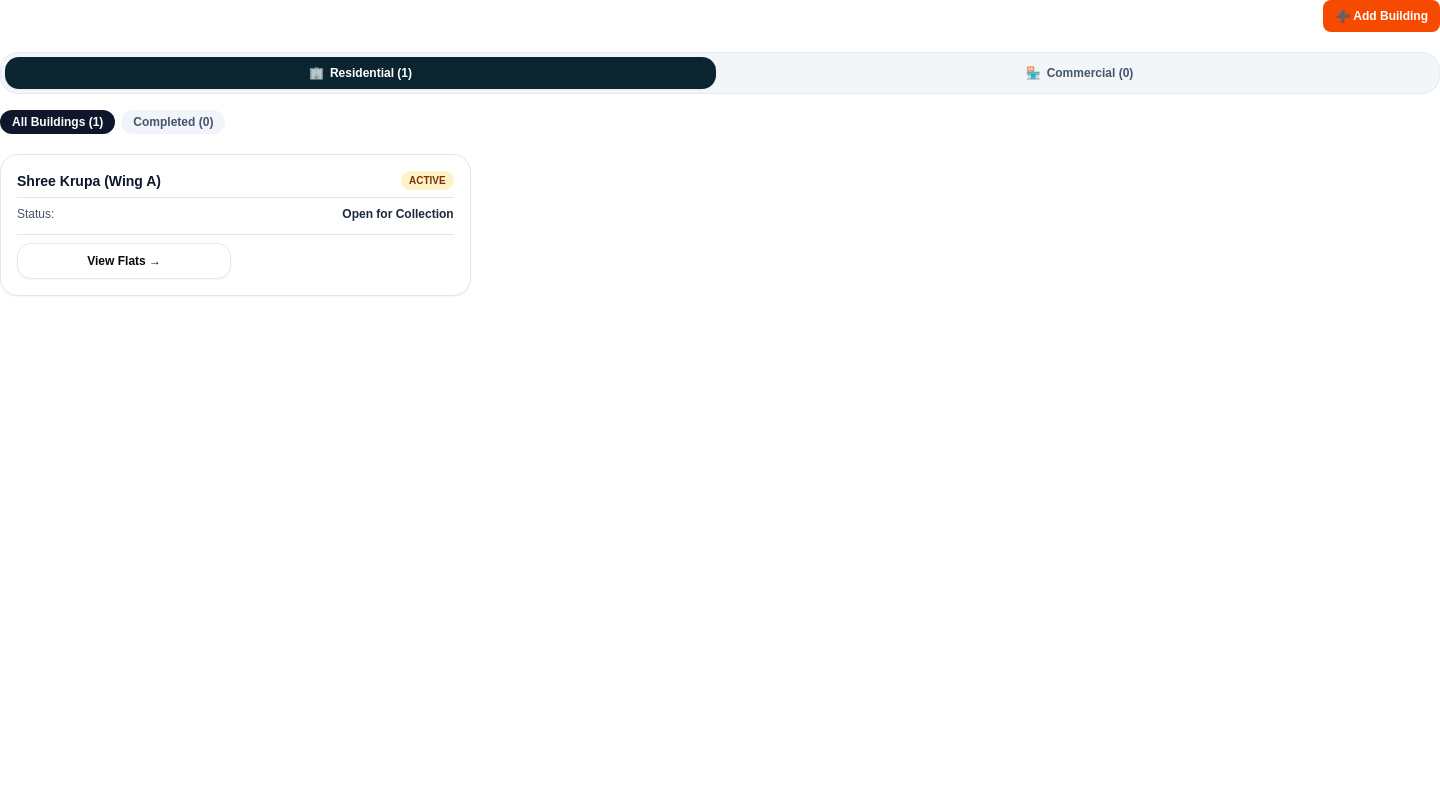
Production Field P0 Fixes: Regression Suite › P0-2: Admin Receipt Void Normalizer & Property Editing › renders Edit Flat button and opens Edit Property modal in BuildingsManagementPanel
This screenshot has width=1440, height=810.
Expected: the heading "Shree Krupa (Wing A)" is shown, x1=17 y1=171 x2=161 y2=191
Click the button "View Flats →": (124,261) x1=17 y1=243 x2=231 y2=279
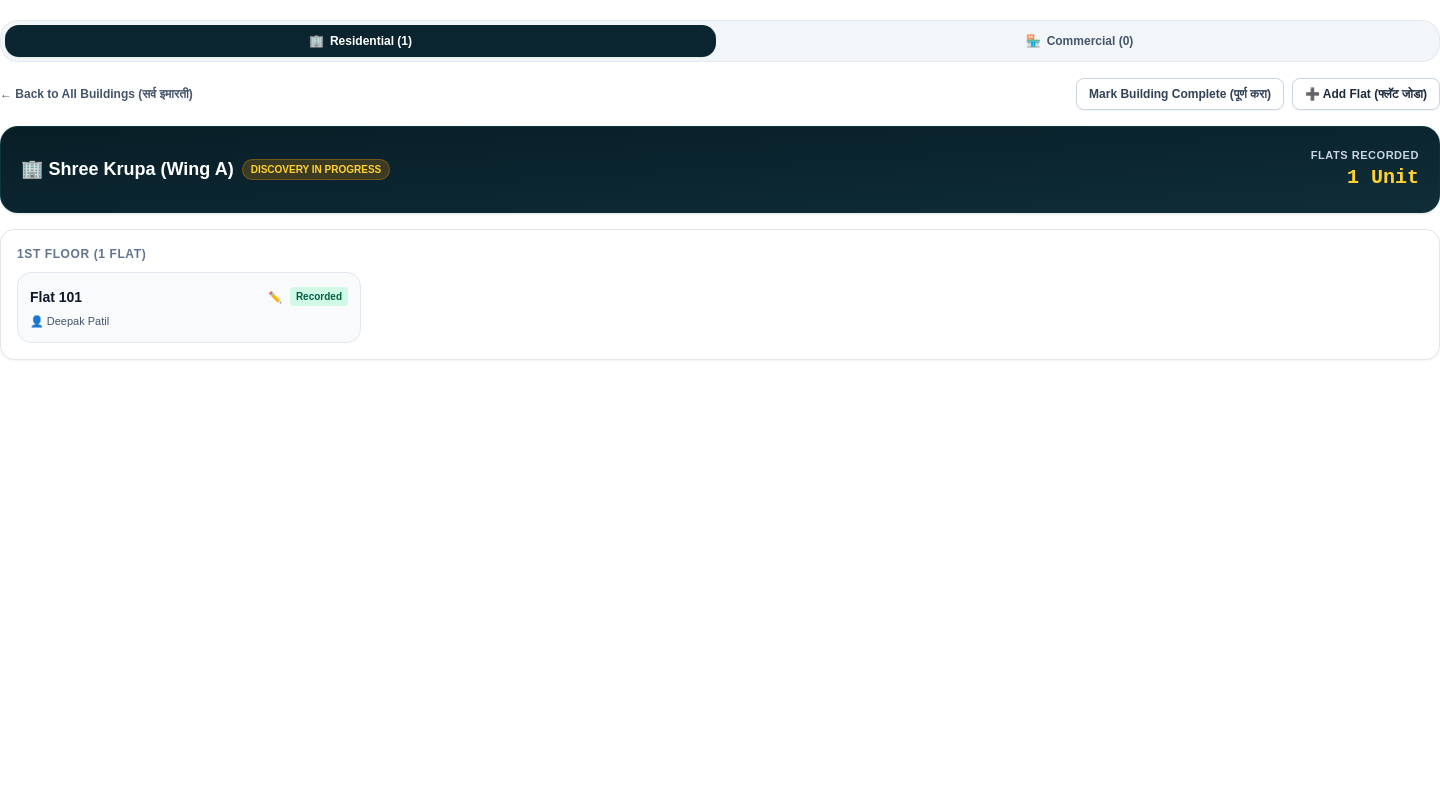
Now the button with test id "btn-edit-flat-prop-101" is shown
// Click Edit Flat button
Click the button with test id "btn-edit-flat-prop-101": (275,297) x1=264 y1=284 x2=286 y2=309
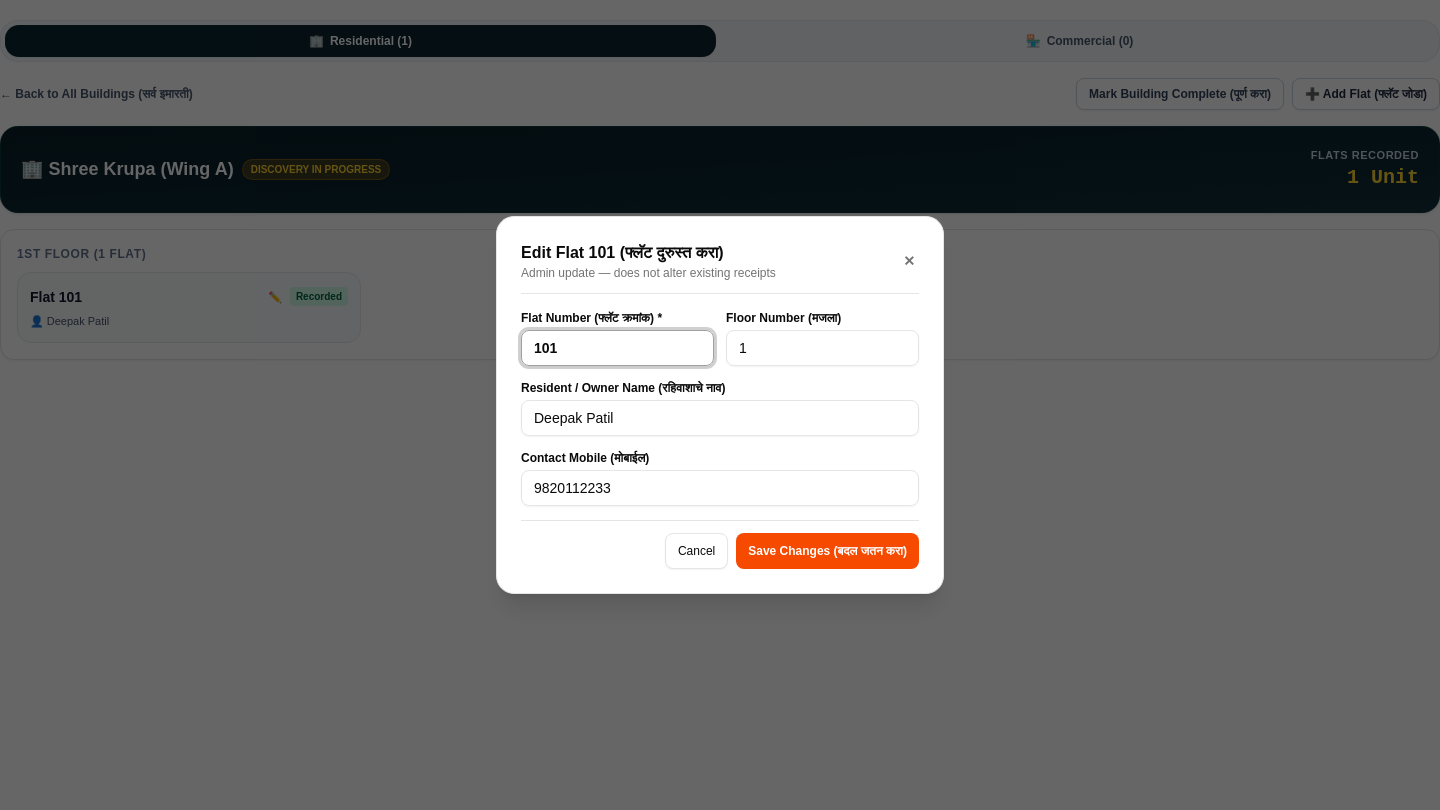
Now the element with test id "edit-property-modal" is shown
Now the heading "Edit Flat 101 (फ्लॅट दुरुस्त करा)" is shown, box x1=521 y1=244 x2=724 y2=261
